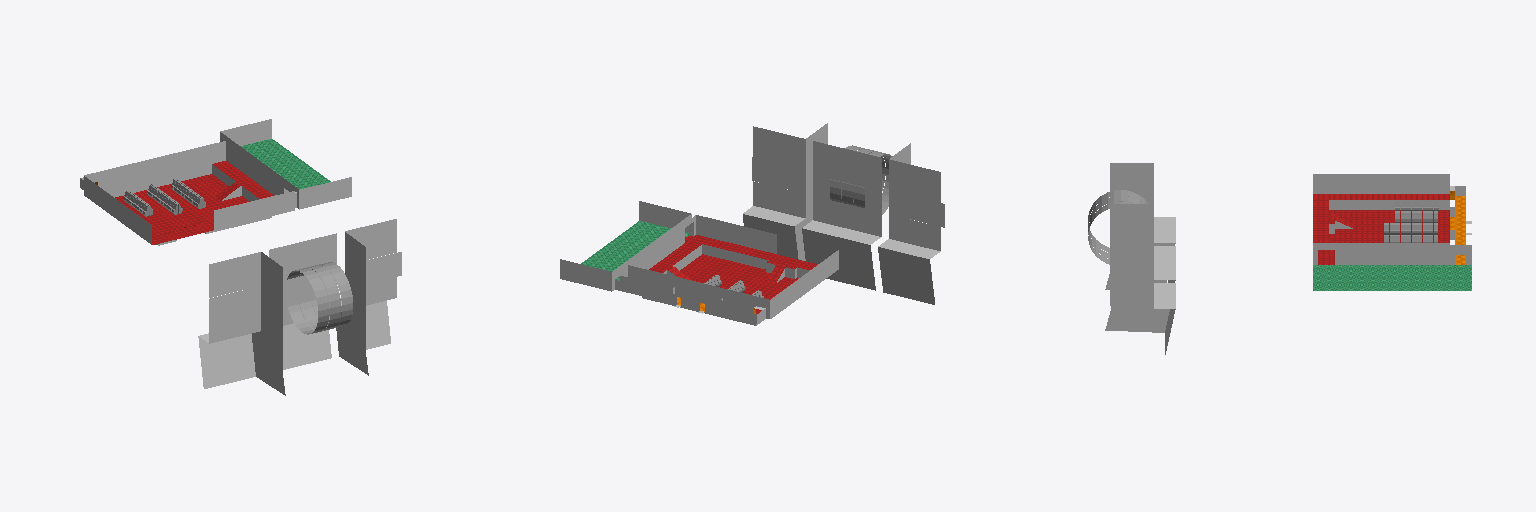
The picture shows the model from 3 angles: view 1: azimuth 30°, elevation 25°; view 2: azimuth 150°, elevation 25°; view 3: azimuth 270°, elevation 25°; orthographic projection.
Parts seen in each view (by area): view 1: LargeSlots_Grid.001, Rooms_Grid, SlotMachines_singleSlot_polygon11.001_polygon11.001, Reel2_Cylinder.003, Reel1_Cylinder.001, Reel0_Cylinder.002; view 2: LargeSlots_Grid.001, Rooms_Grid, Reel2_Cylinder.003; view 3: Rooms_Grid, LargeSlots_Grid.001, SlotMachines_singleSlot_polygon11.001_polygon11.001.
Boxes of the visible parts, x1,y1,x2,y2 form: LargeSlots_Grid.001: [198, 219, 401, 395]; Rooms_Grid: [80, 119, 351, 245]; SlotMachines_singleSlot_polygon11.001_polygon11.001: [123, 178, 205, 216]; Reel2_Cylinder.003: [287, 268, 329, 334]; Reel1_Cylinder.001: [299, 265, 341, 331]; Reel0_Cylinder.002: [311, 262, 352, 328]; LargeSlots_Grid.001: [743, 123, 944, 304]; Rooms_Grid: [560, 201, 838, 325]; Reel2_Cylinder.003: [853, 151, 892, 214]; Rooms_Grid: [1313, 174, 1471, 290]; LargeSlots_Grid.001: [1105, 163, 1175, 354]; SlotMachines_singleSlot_polygon11.001_polygon11.001: [1384, 201, 1438, 242].
Size of the model in its own units: 47.23 by 26 by 69.97.
Materials: 8 (3 with a texture image).